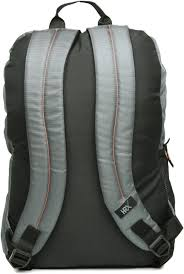backpack: (0, 0, 183, 269)
